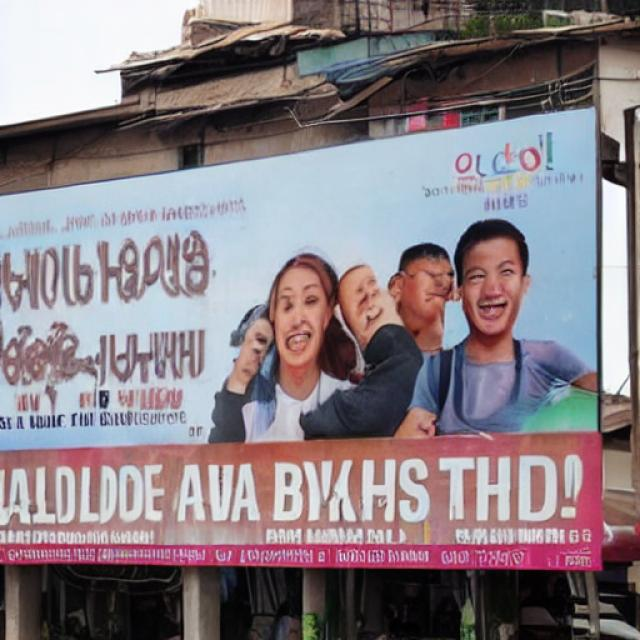Billboard: (0, 109, 601, 571)
